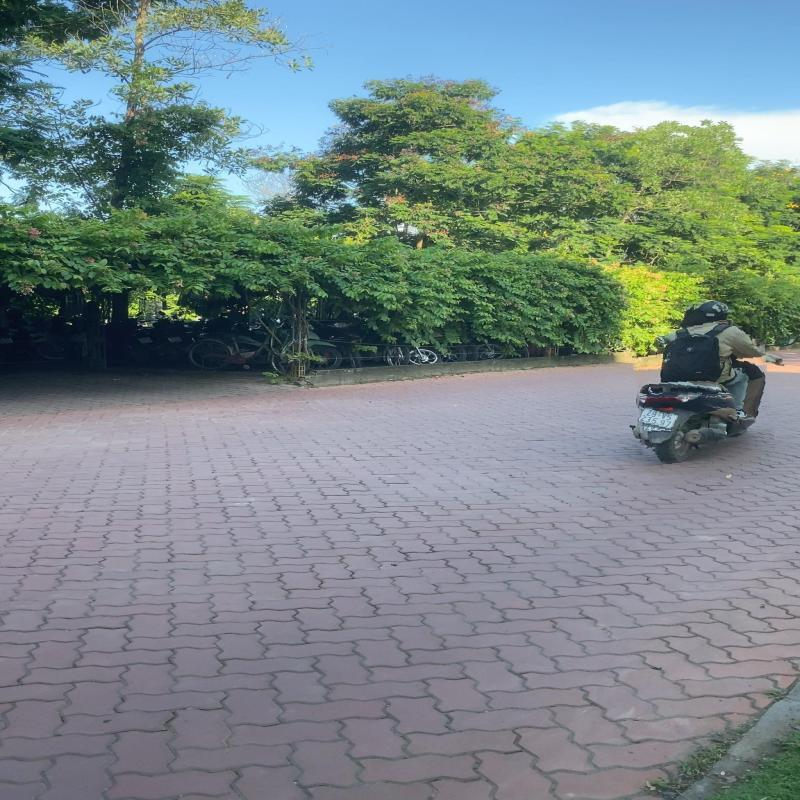helmet: (693, 300, 732, 320)
licenseplate: (636, 408, 680, 430)
motorcyclist: (631, 298, 772, 464)
